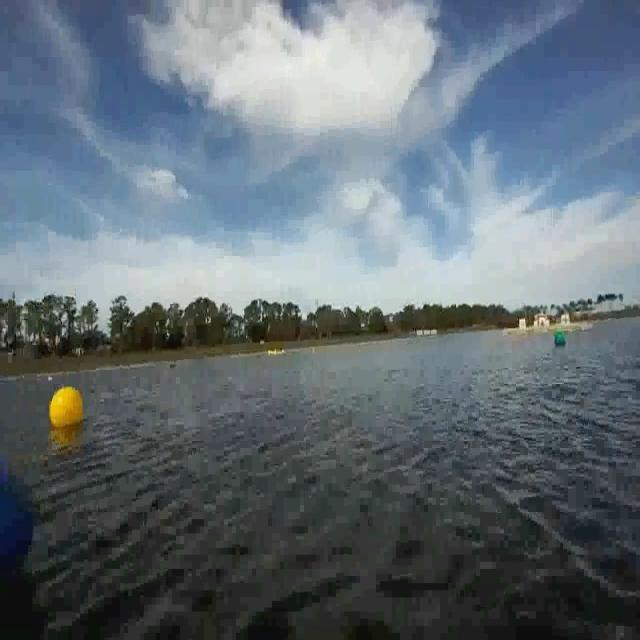blue-buoy: (0, 463, 34, 569)
green-buoy: (554, 328, 566, 348)
yellow-buoy: (50, 385, 84, 428)
